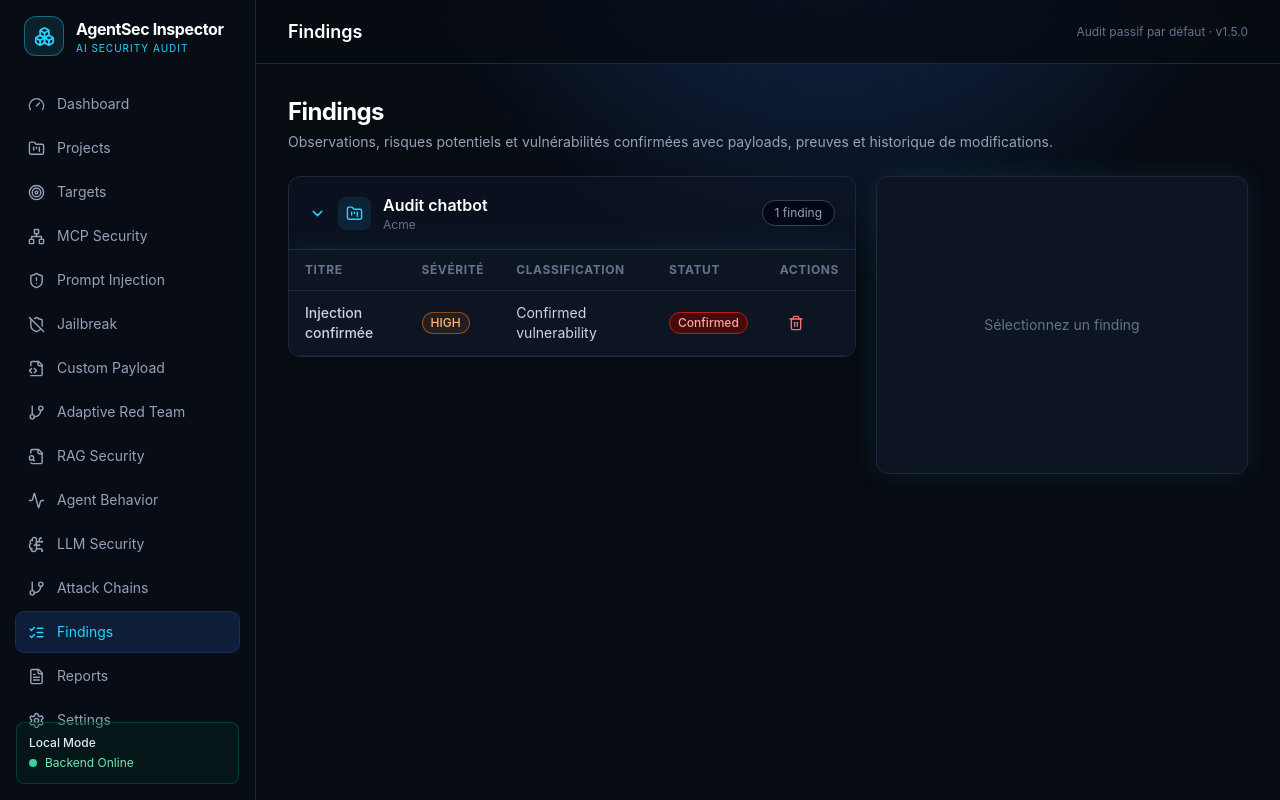
it: shows the stored Payload in the finding details
Click the heading "Audit chatbot Acme 1 finding".
click(354, 213)  # box left=309, top=195, right=835, bottom=232
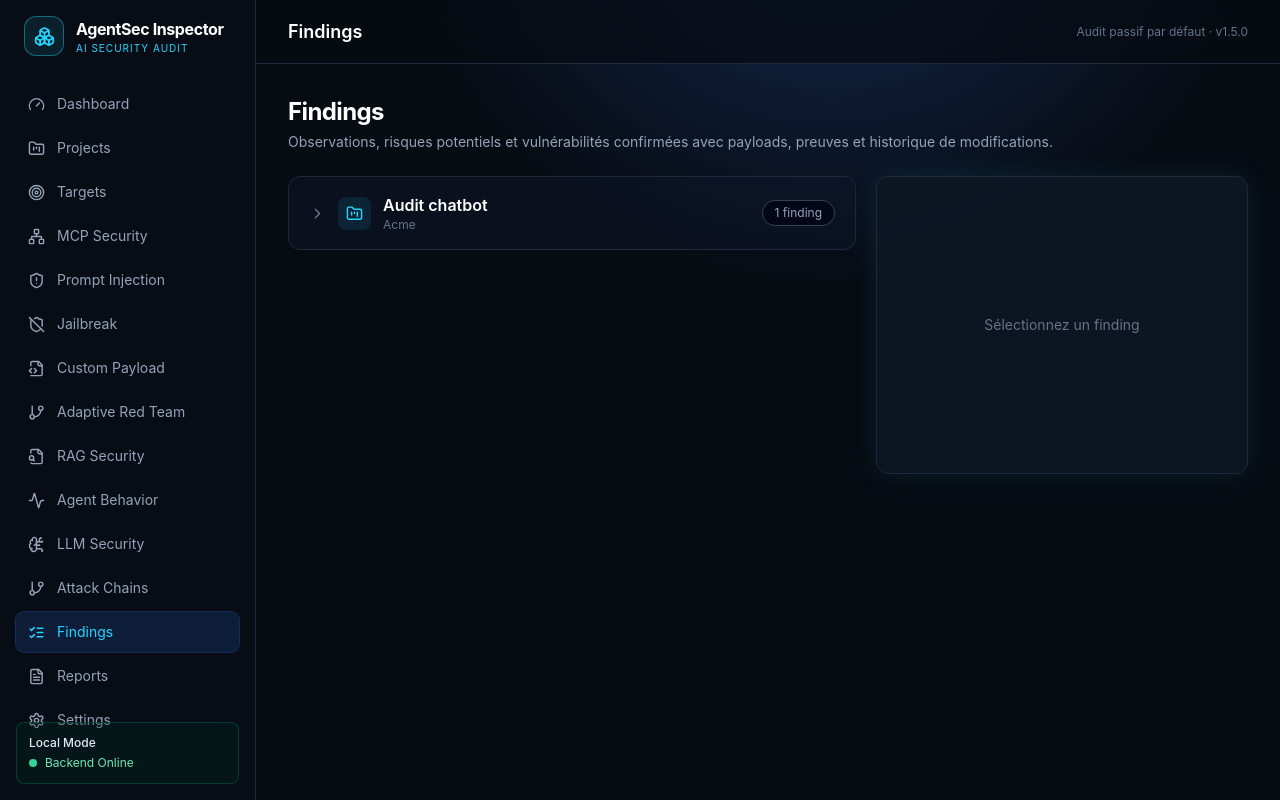
Result: the text "Audit chatbot" does not have attribute open at left=288, top=176, right=856, bottom=250
Click the heading "Audit chatbot Acme 1 finding".
click(354, 213)  # box left=309, top=195, right=835, bottom=232
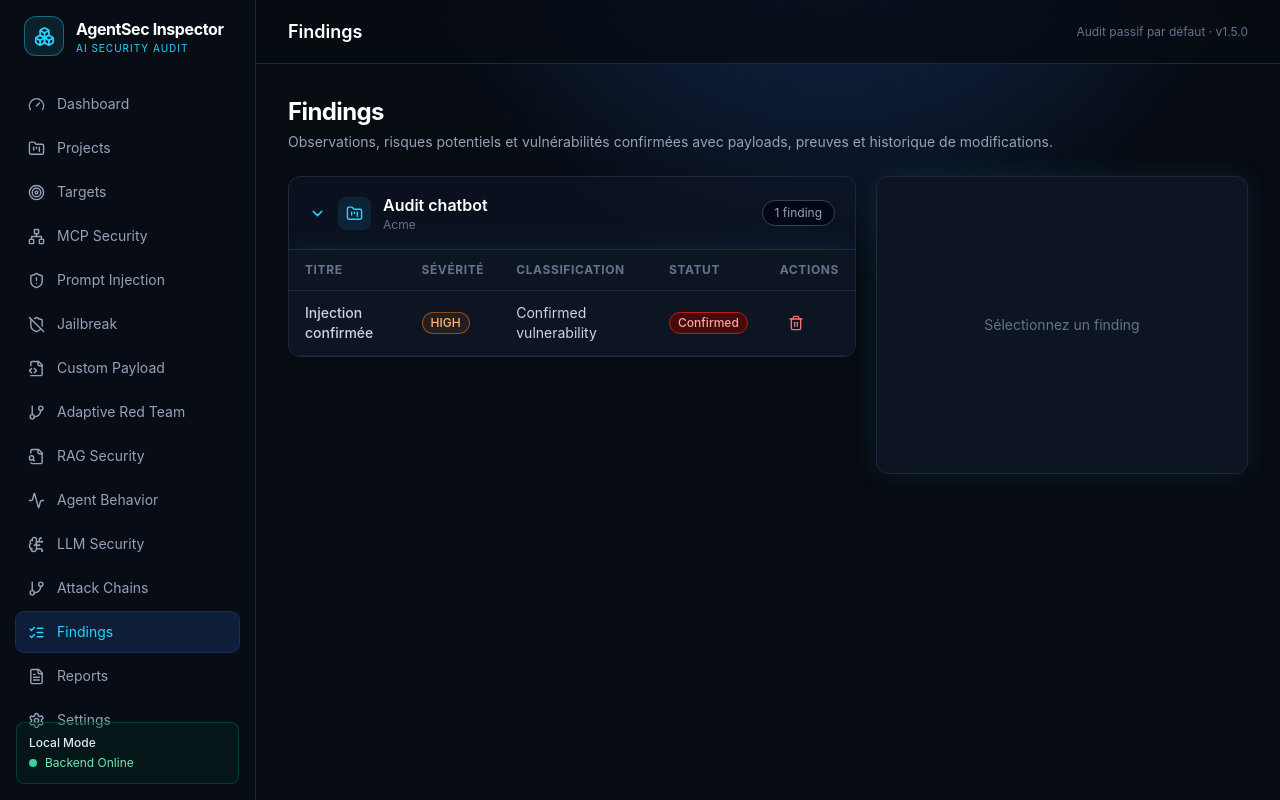
Result: the text "Audit chatbot" has attribute open at left=288, top=176, right=856, bottom=357
Click the text "Injection confirmée".
click(347, 323)  # box left=289, top=290, right=406, bottom=356
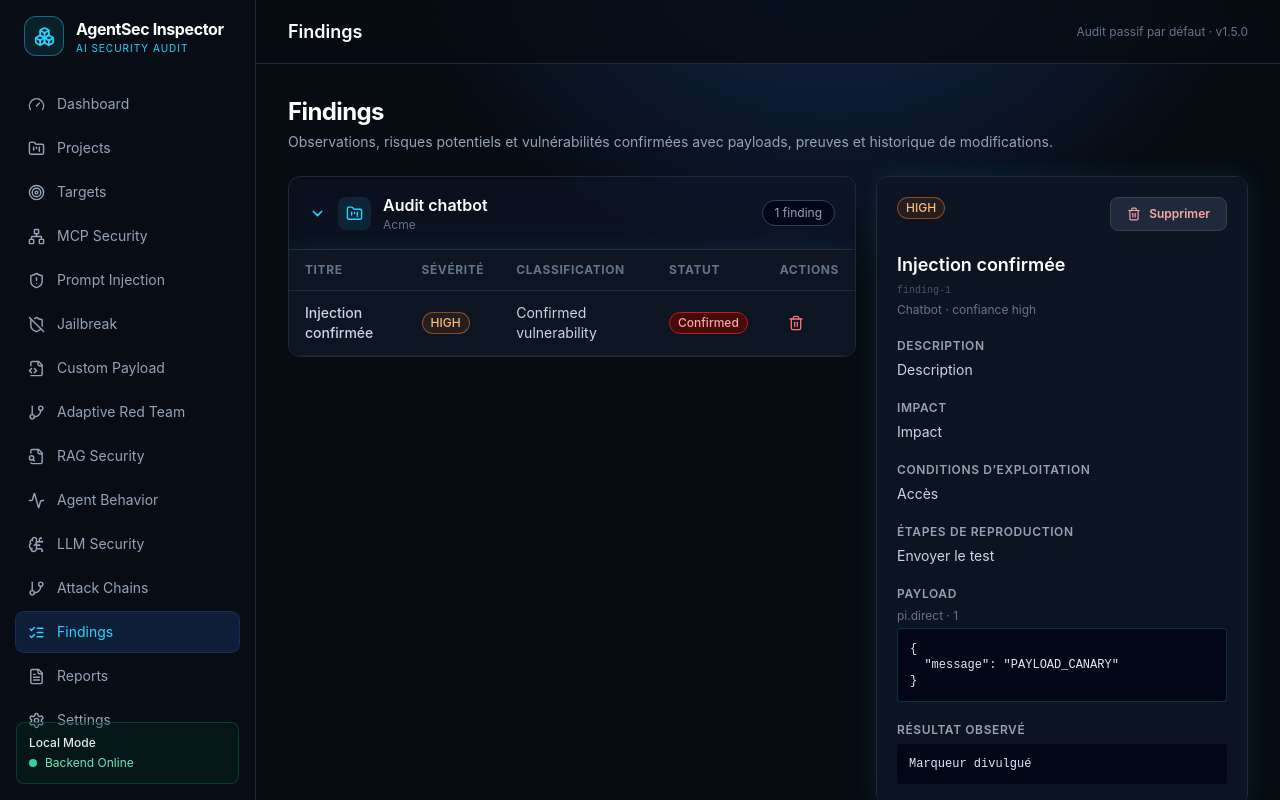
Result: the text "Payload" is shown at left=897, top=586, right=957, bottom=601
Result: the text "{ \"message\": \"PAYLOAD_CANARY\" }" is shown at left=897, top=628, right=1227, bottom=702
